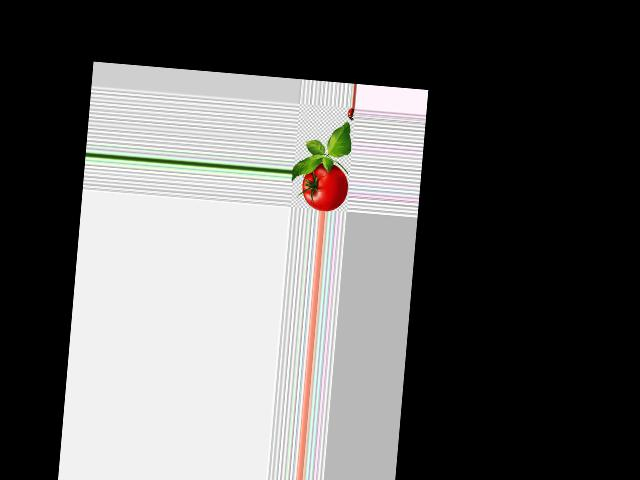tomato: (300, 161, 350, 212)
